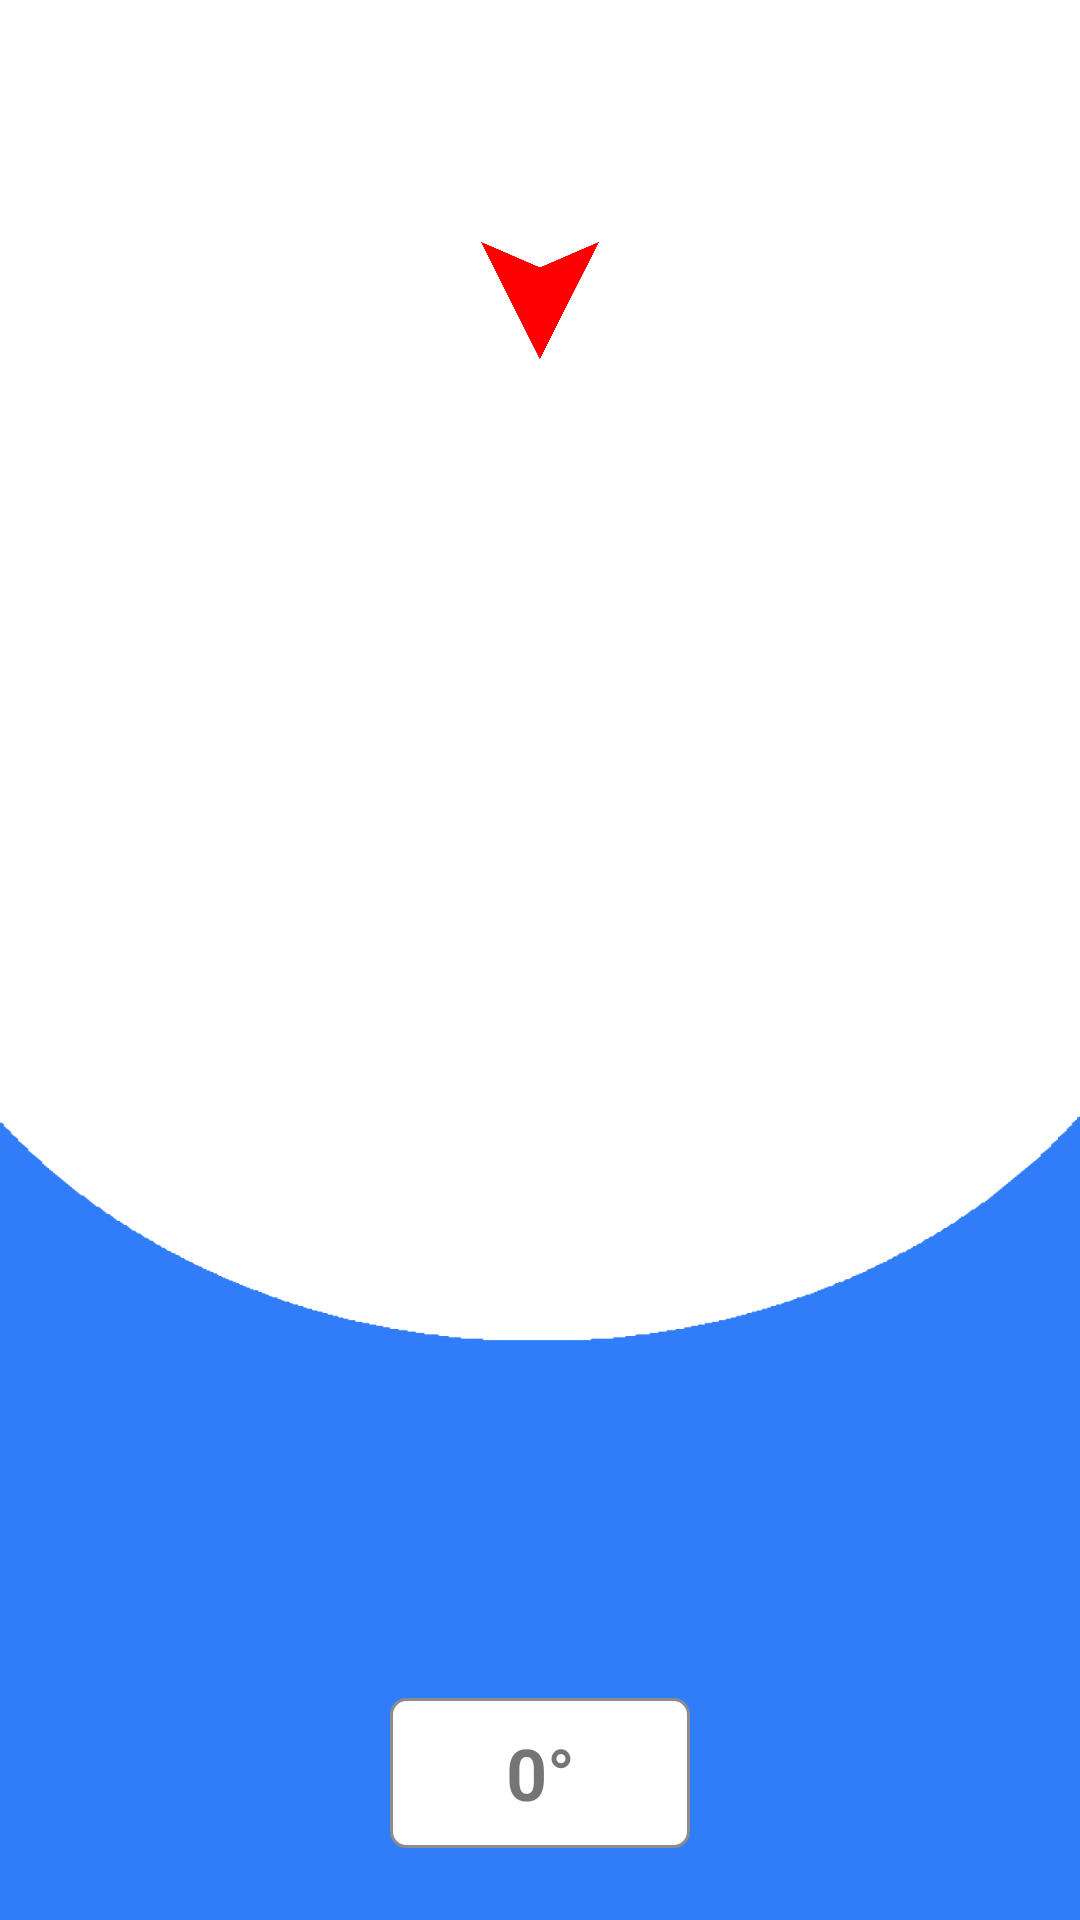

Where icons sit on this 1080x1920 app screen, as (x1, y1, x2, y2):
trangel down: (481, 242, 599, 359)
